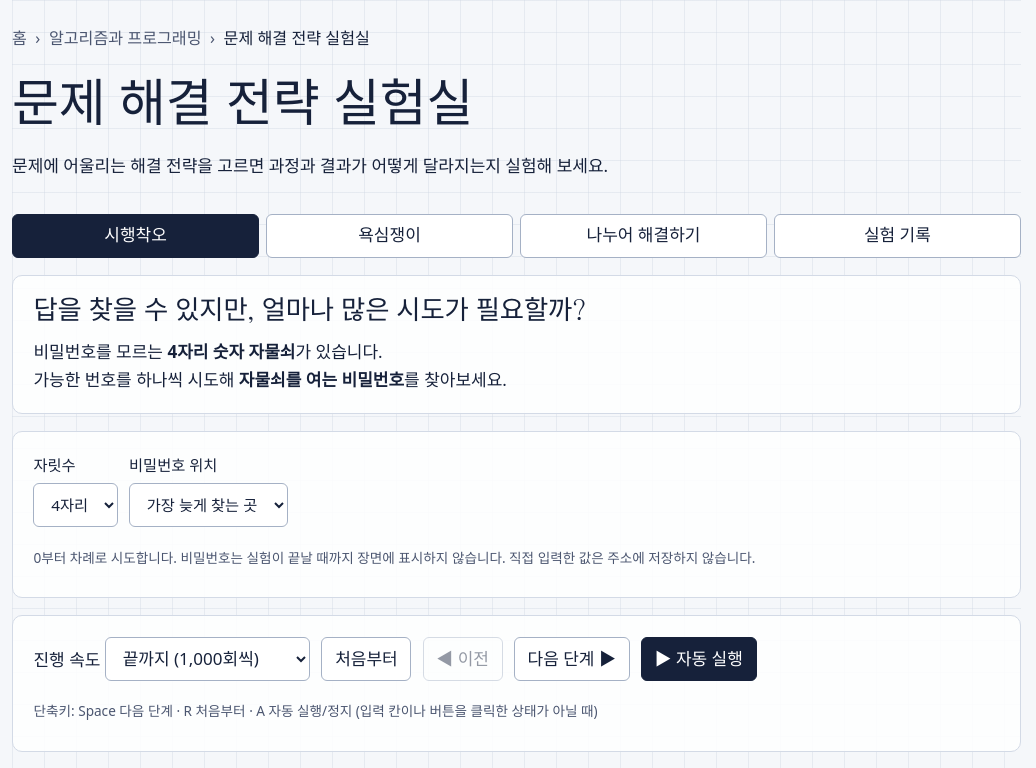
Test case: 이전 채팅의 기본값과 상단 질문을 세 탭에 반영한다
Expected: the dropdown labelled "진행 속도" shows "끝까지 (1,000회씩)", x1=105 y1=637 x2=310 y2=681
Expected: the heading "답을 찾을 수 있지만, 얼마나 많은 시도가 필요할까?" is shown, x1=34 y1=298 x2=586 y2=324
Click the tab "욕심쟁이": (390, 236) x1=266 y1=214 x2=513 y2=258
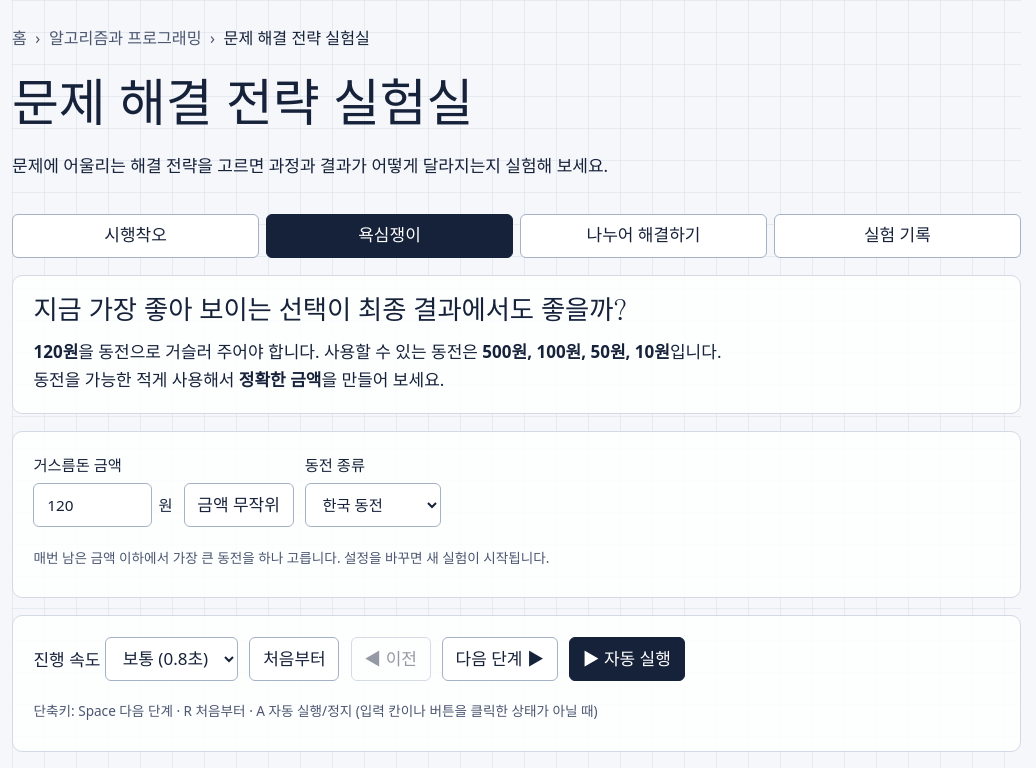
Now the number field labelled "거스름돈 금액 원" holds "120", box x1=34 y1=483 x2=152 y2=527
Now the heading "지금 가장 좋아 보이는 선택이 최종 결과에서도 좋을까?" is shown, box x1=34 y1=298 x2=627 y2=324
Click the tab "나누어 해결하기": (644, 236) x1=520 y1=214 x2=767 y2=258
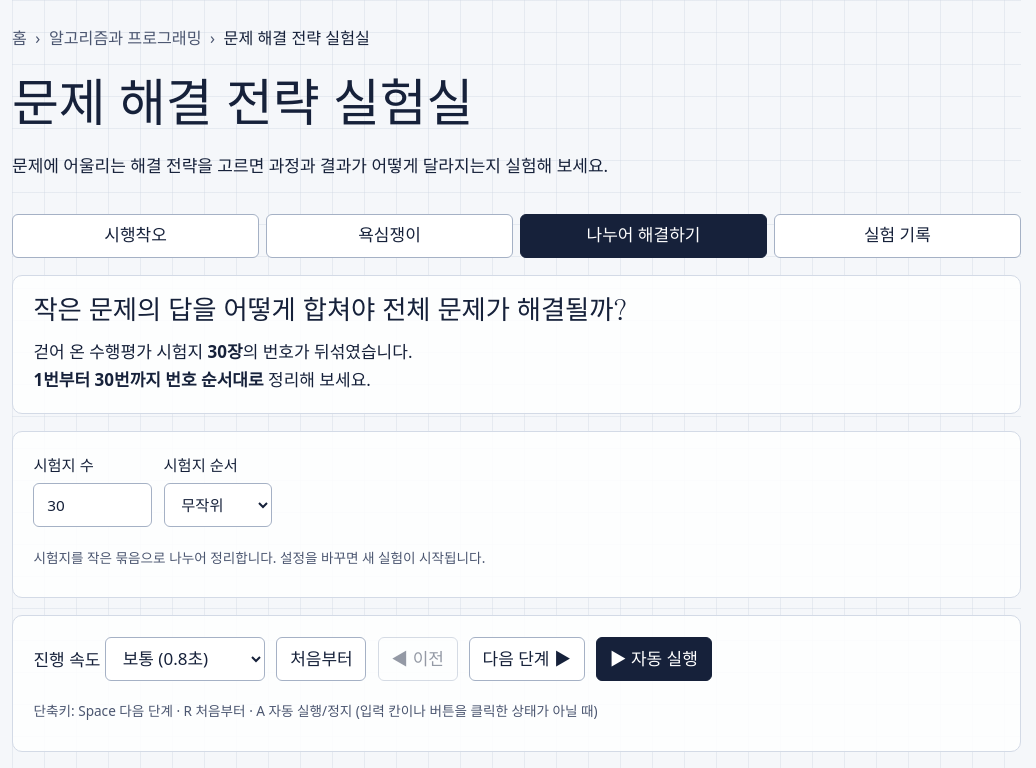
Now the number field labelled "시험지 수" holds "30", box x1=34 y1=483 x2=152 y2=527
Now the dropdown labelled "시험지 순서" shows "무작위", box x1=164 y1=483 x2=272 y2=527
